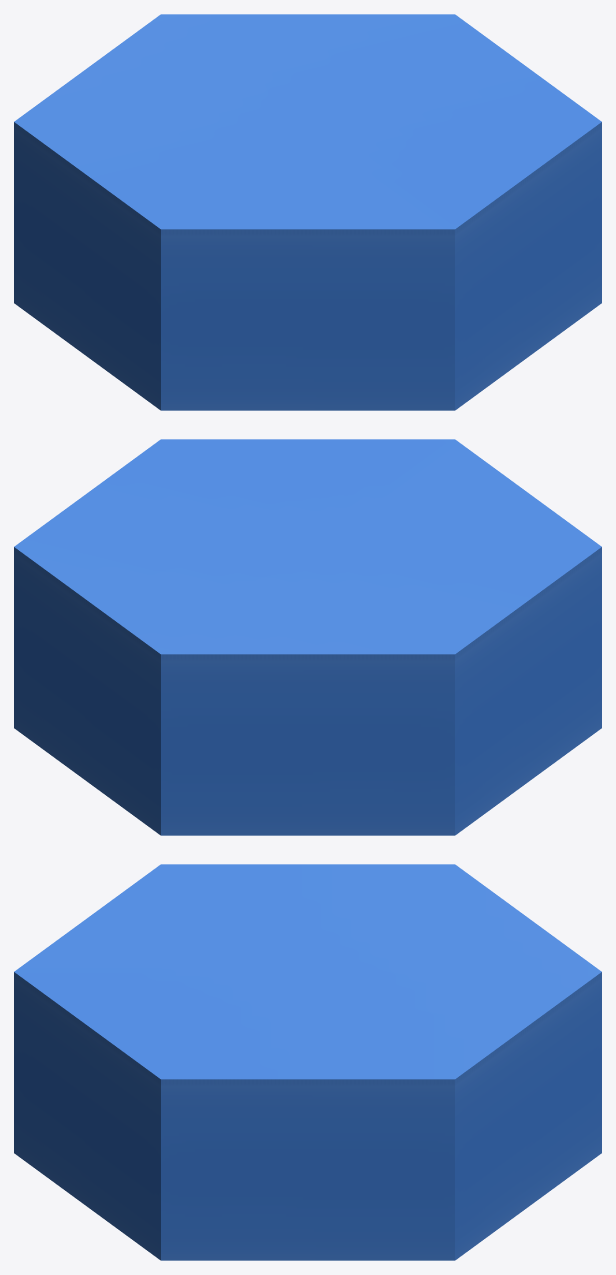
File: hexa_wall.fbx
3 renders of one model, top to bottom at view 1: azimuth 30°, elevation 25°; view 2: azimuth 150°, elevation 25°; view 3: azimuth 270°, elevation 25°, orthographic.
Parts seen in each view (by area): view 1: Cylinder.015; view 2: Cylinder.015; view 3: Cylinder.015.
Boxes of the visible parts, x1,y1,x2,y2 form: Cylinder.015: [14, 14, 601, 410]; Cylinder.015: [14, 439, 601, 835]; Cylinder.015: [14, 864, 601, 1260].
Bounding box in the file's own units: 1051 × 413 × 1213.
Materials: 1 (1 with a texture image).
